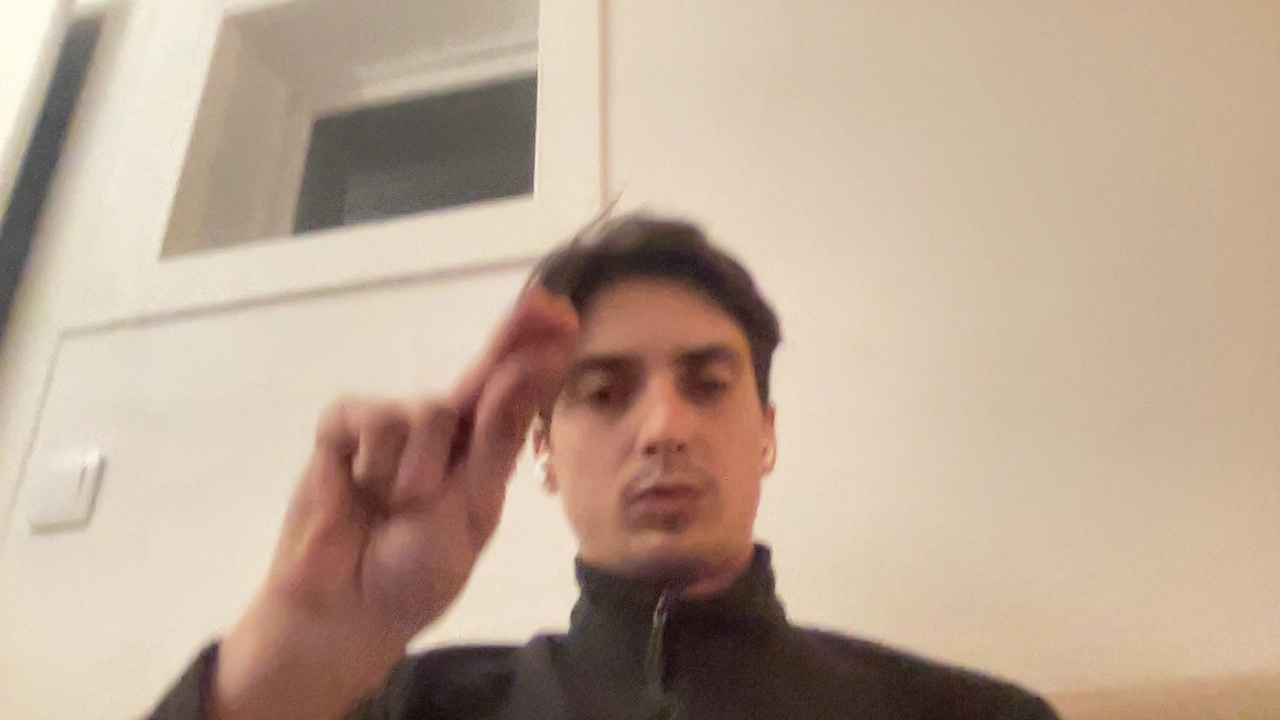no: (270, 211, 607, 650)
